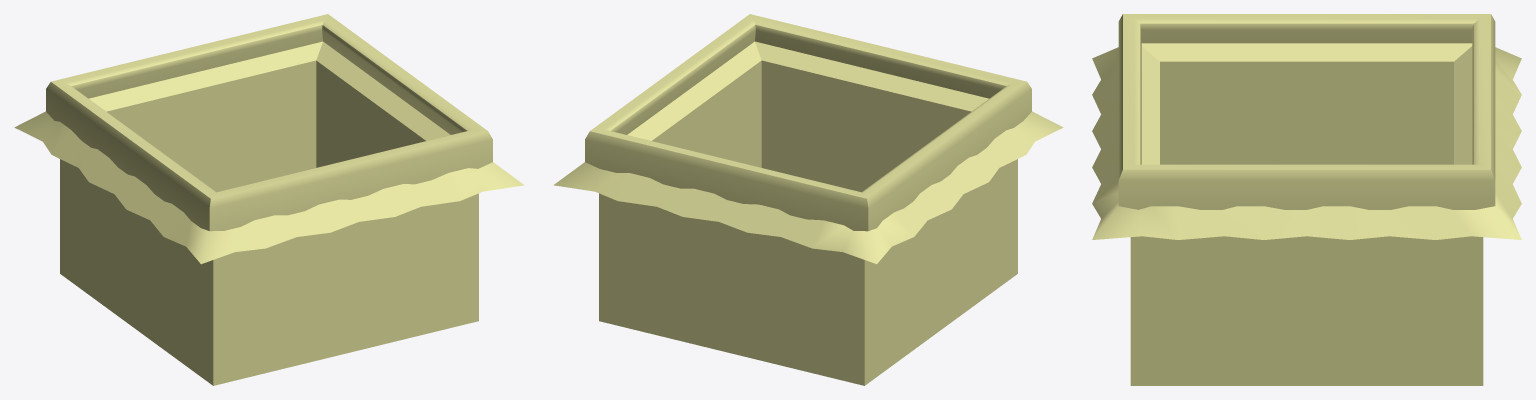
Rendered from Cestino.fbx.
3 views of the same model, side by side, from view 1: azimuth 30°, elevation 25°; view 2: azimuth 150°, elevation 25°; view 3: azimuth 270°, elevation 25° (orthographic). The views are drawn at different scales.
Parts seen in each view (by area): view 1: Cestino; view 2: Cestino; view 3: Cestino.
Boxes of the visible parts, x1,y1,x2,y2 form: Cestino: (14, 14, 524, 385); Cestino: (553, 14, 1063, 385); Cestino: (1092, 14, 1521, 385).
Bounding box in the file's own units: 1.14 × 0.6436 × 1.14.
